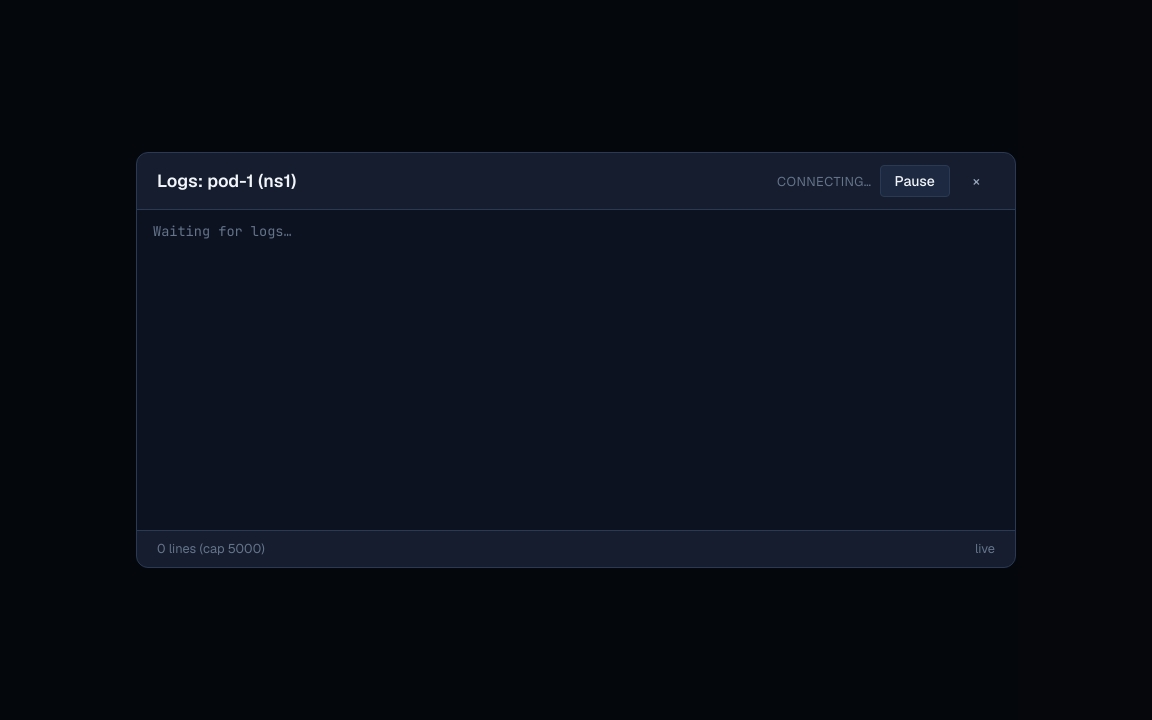
Scenario: PodLogsModal › toggles the pause button and reflects the state in the footer
Expected: the text with test id "pod-logs-pause" reads "Pause", [895,172,935,190]
Click the button with test id "pod-logs-pause": (915, 181) [880,165,950,197]
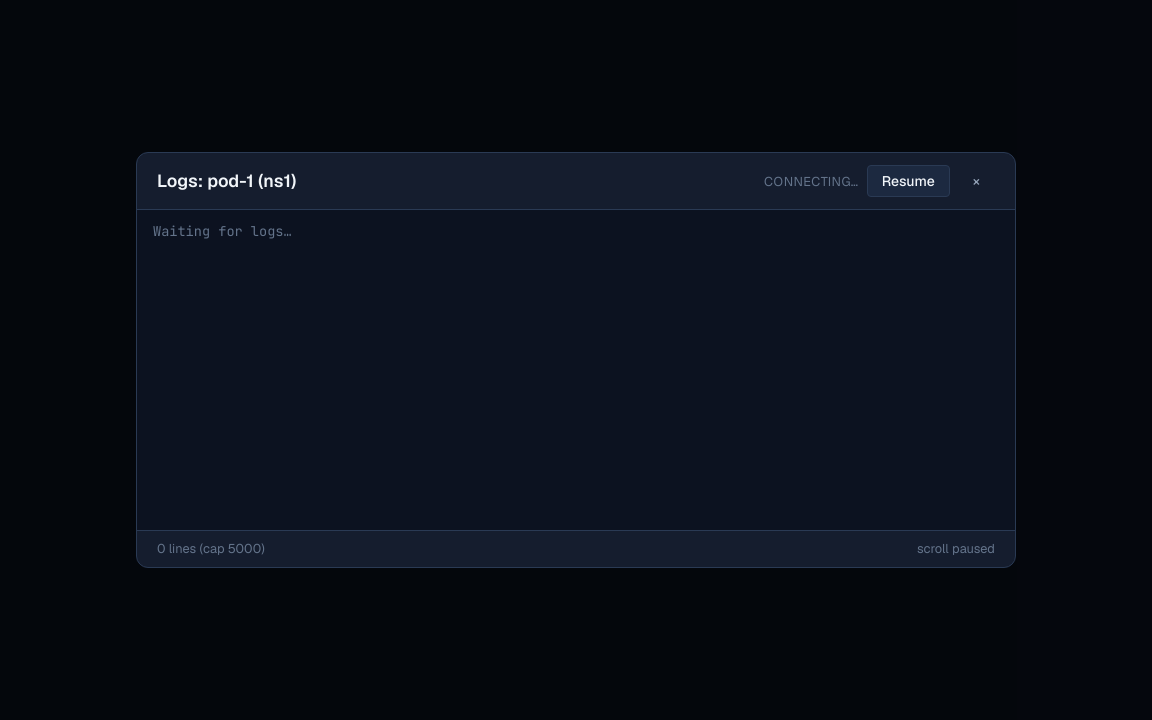
Now the text with test id "pod-logs-pause" reads "Resume", box [882,172,935,190]
Now the text "scroll paused" is shown, box [917,539,995,559]
